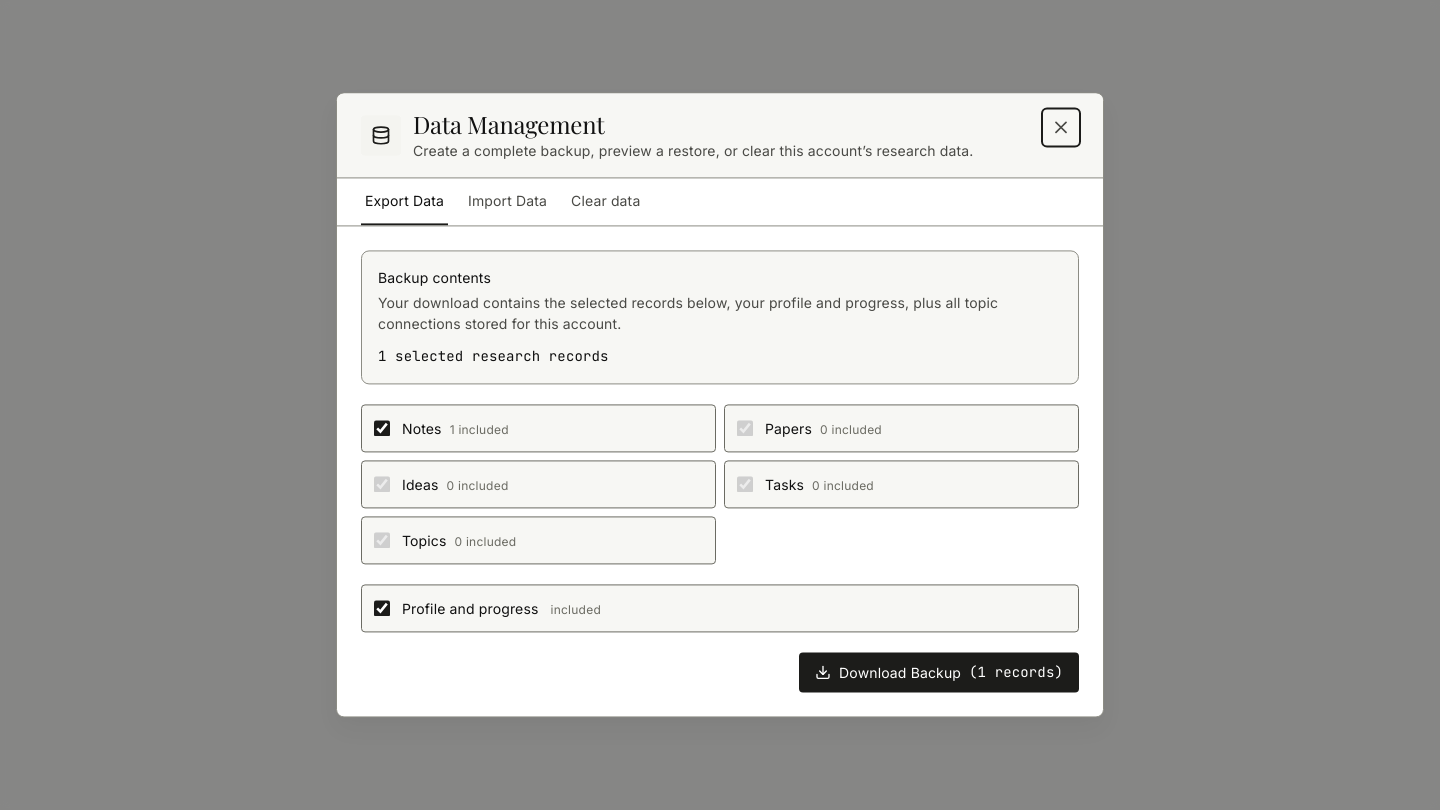
Test: DataManagementDialog › switches to Import tab
The image size is (1440, 810).
Step 1. Click the tab "Import Data" → (508, 208), box [464,191,551,226]
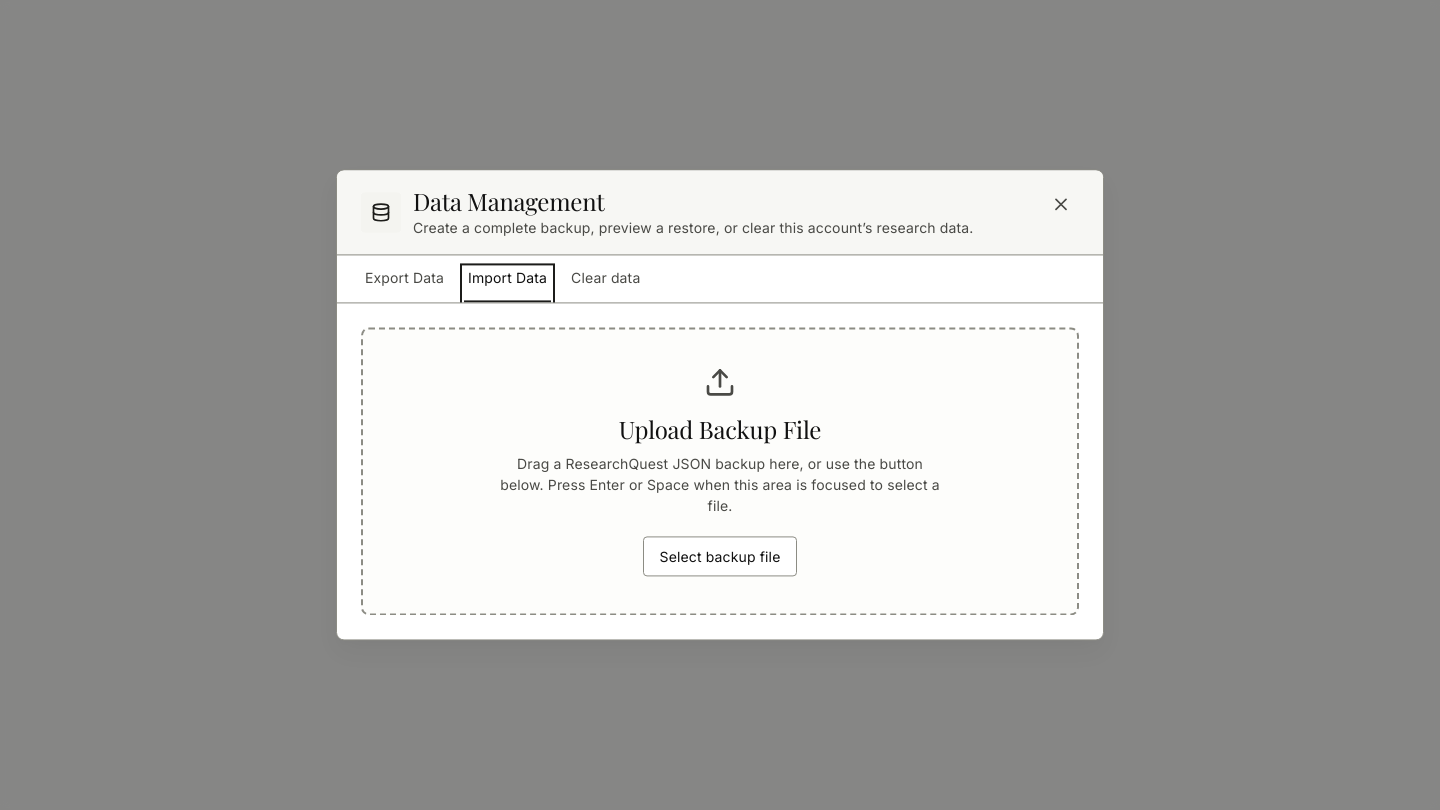
Check: the heading "Upload Backup File" is shown, box [619,414,821,446]
